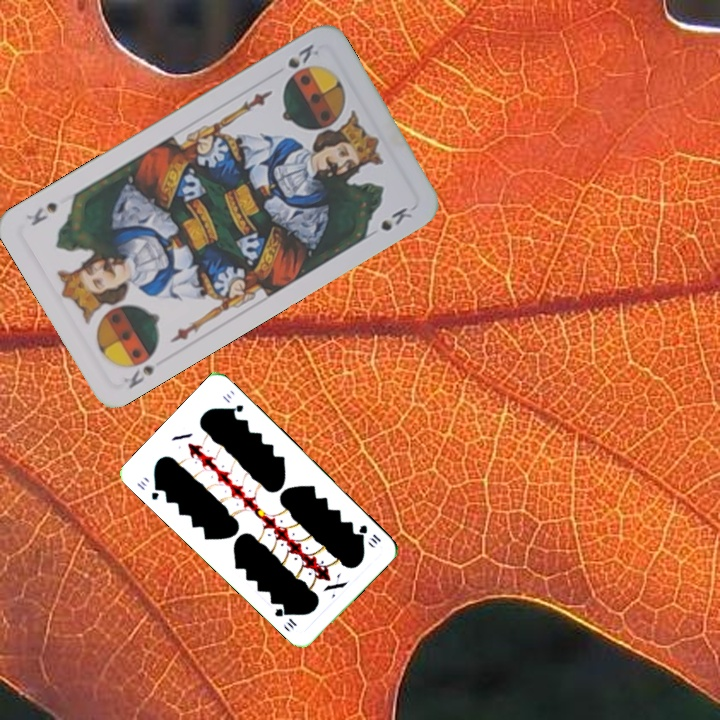G10: (133, 476, 164, 502), (354, 521, 384, 546)
SK: (283, 39, 322, 72), (119, 361, 157, 391)
